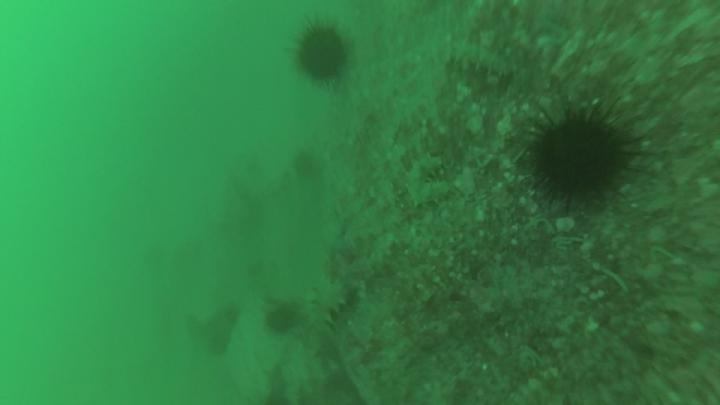echinus: (524, 100, 629, 217), (280, 10, 367, 99), (265, 300, 298, 335)
holothurian: (430, 37, 518, 82), (299, 271, 351, 331), (404, 153, 454, 209)
